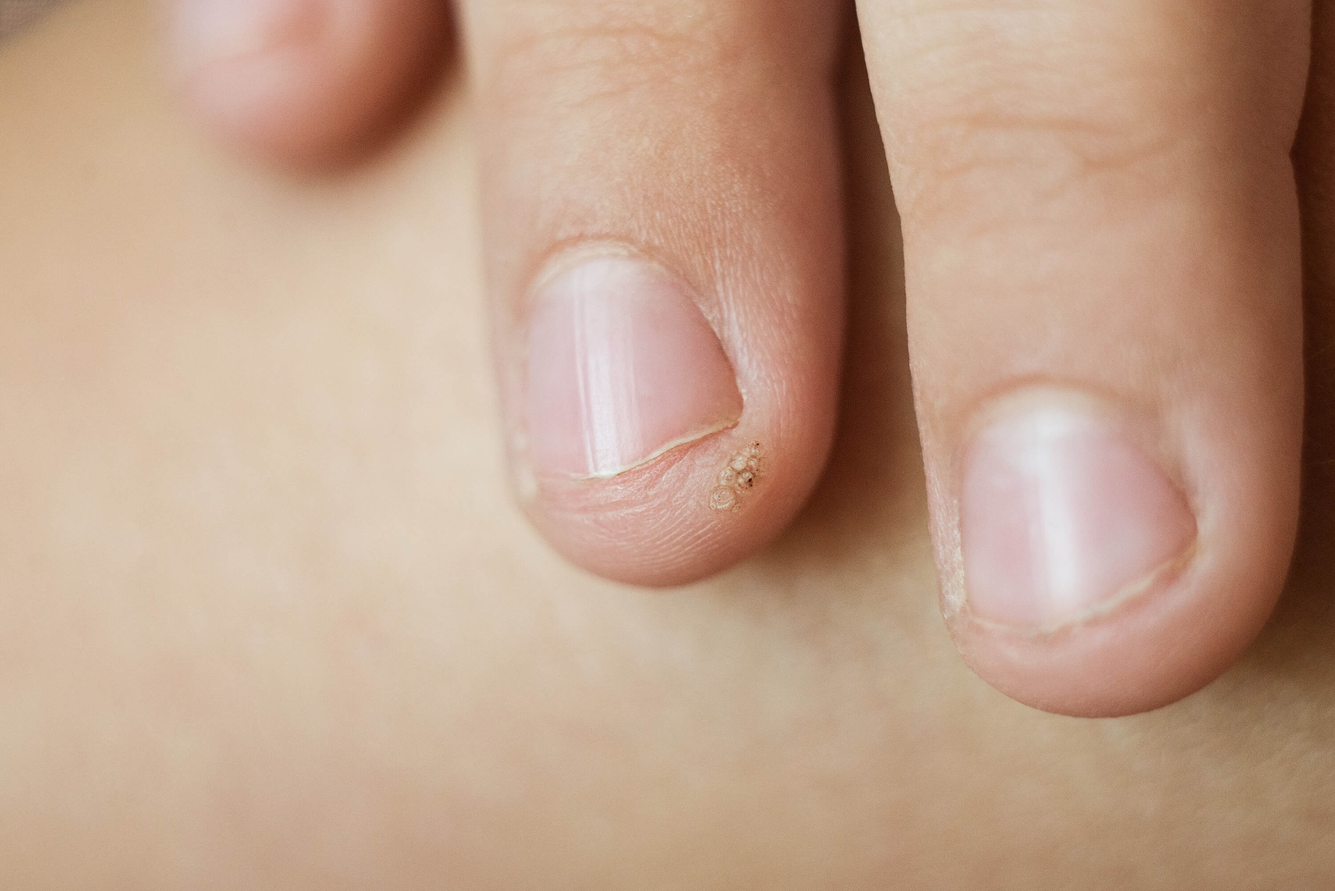Warts: (699, 439, 785, 528)
